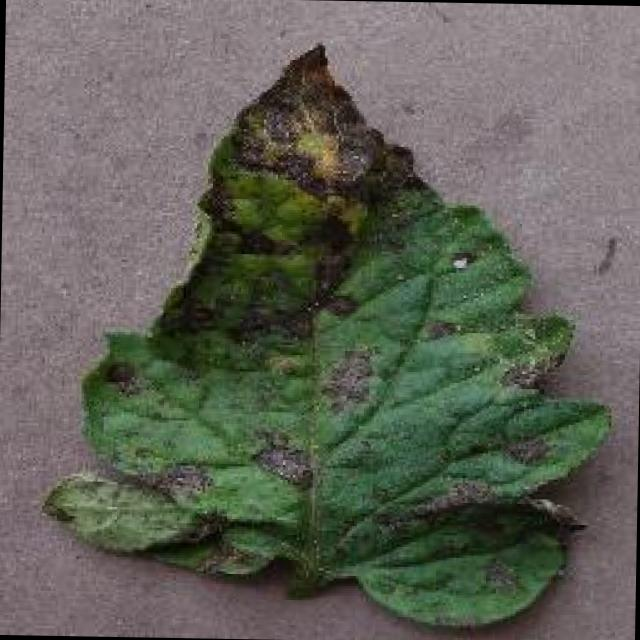Tomato_Early_Blight: (47, 35, 623, 630)
